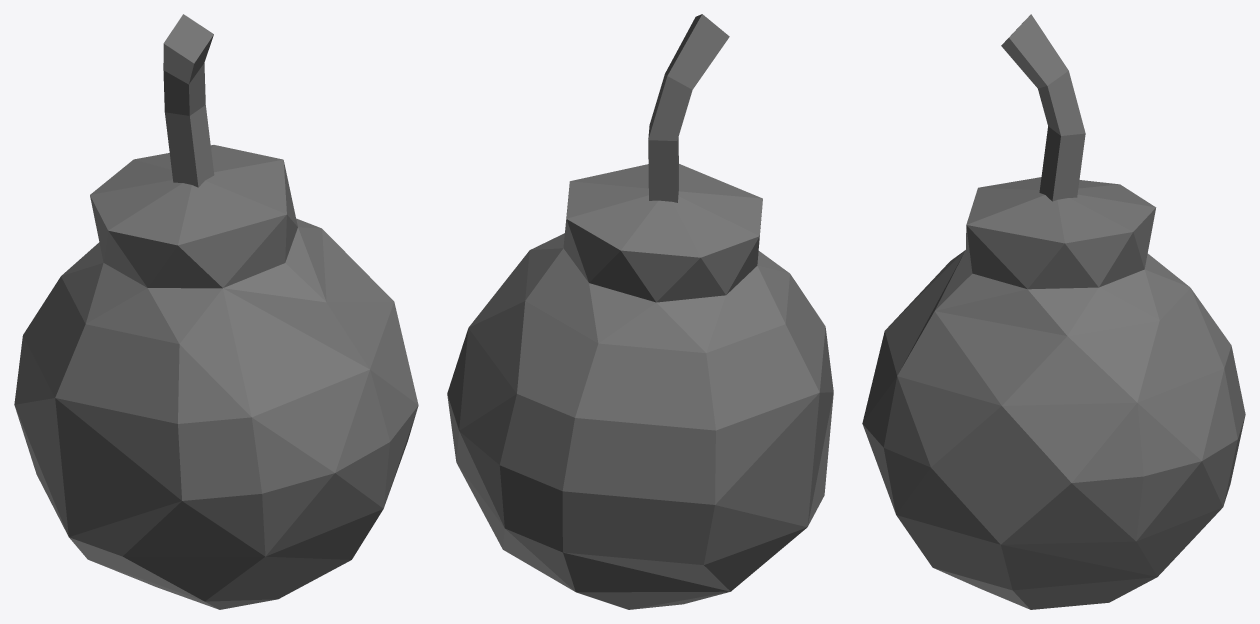
Rendered from Bomb_Silver.FBX.
3 views of the same model, side by side, from view 1: azimuth 30°, elevation 25°; view 2: azimuth 150°, elevation 25°; view 3: azimuth 270°, elevation 25° (orthographic). The views are drawn at different scales.
Parts seen in each view (by area): view 1: Bomb_Silver; view 2: Bomb_Silver; view 3: Bomb_Silver.
Part boxes in pixels (x1,y1,x2,y2): Bomb_Silver: (14,14,418,609); Bomb_Silver: (447,14,833,609); Bomb_Silver: (862,14,1245,609).
Size of the model in its own units: 0.5179 by 0.8525 by 0.5307.
